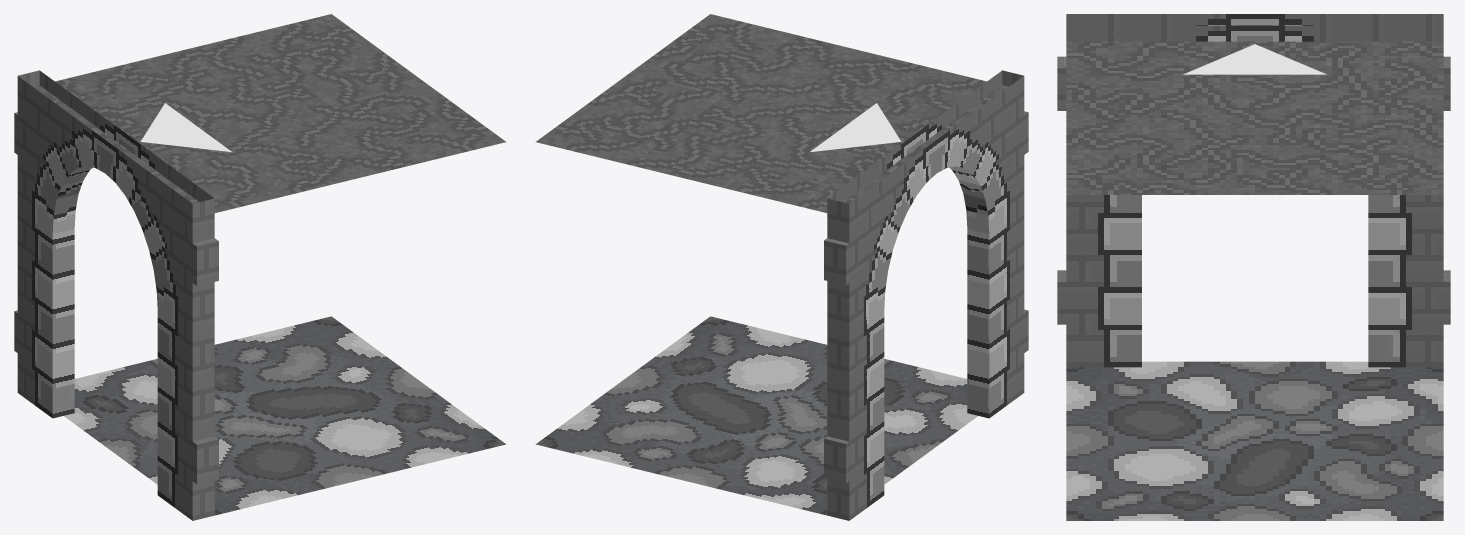
The picture shows the model from 3 angles, left to right: view 1: azimuth 30°, elevation 25°; view 2: azimuth 150°, elevation 25°; view 3: azimuth 270°, elevation 25°; orthographic projection. The views are drawn at different scales.
Parts seen in each view (by area): view 1: D-col; view 2: D-col; view 3: D-col.
Part boxes in pixels (x1,y1,x2,y2): D-col: (14,14,506,520); D-col: (535,14,1028,520); D-col: (1057,14,1450,520).
Bounding box in the file's own units: 2.07 × 2 × 2.09.
Materials: 4 (3 with a texture image).
